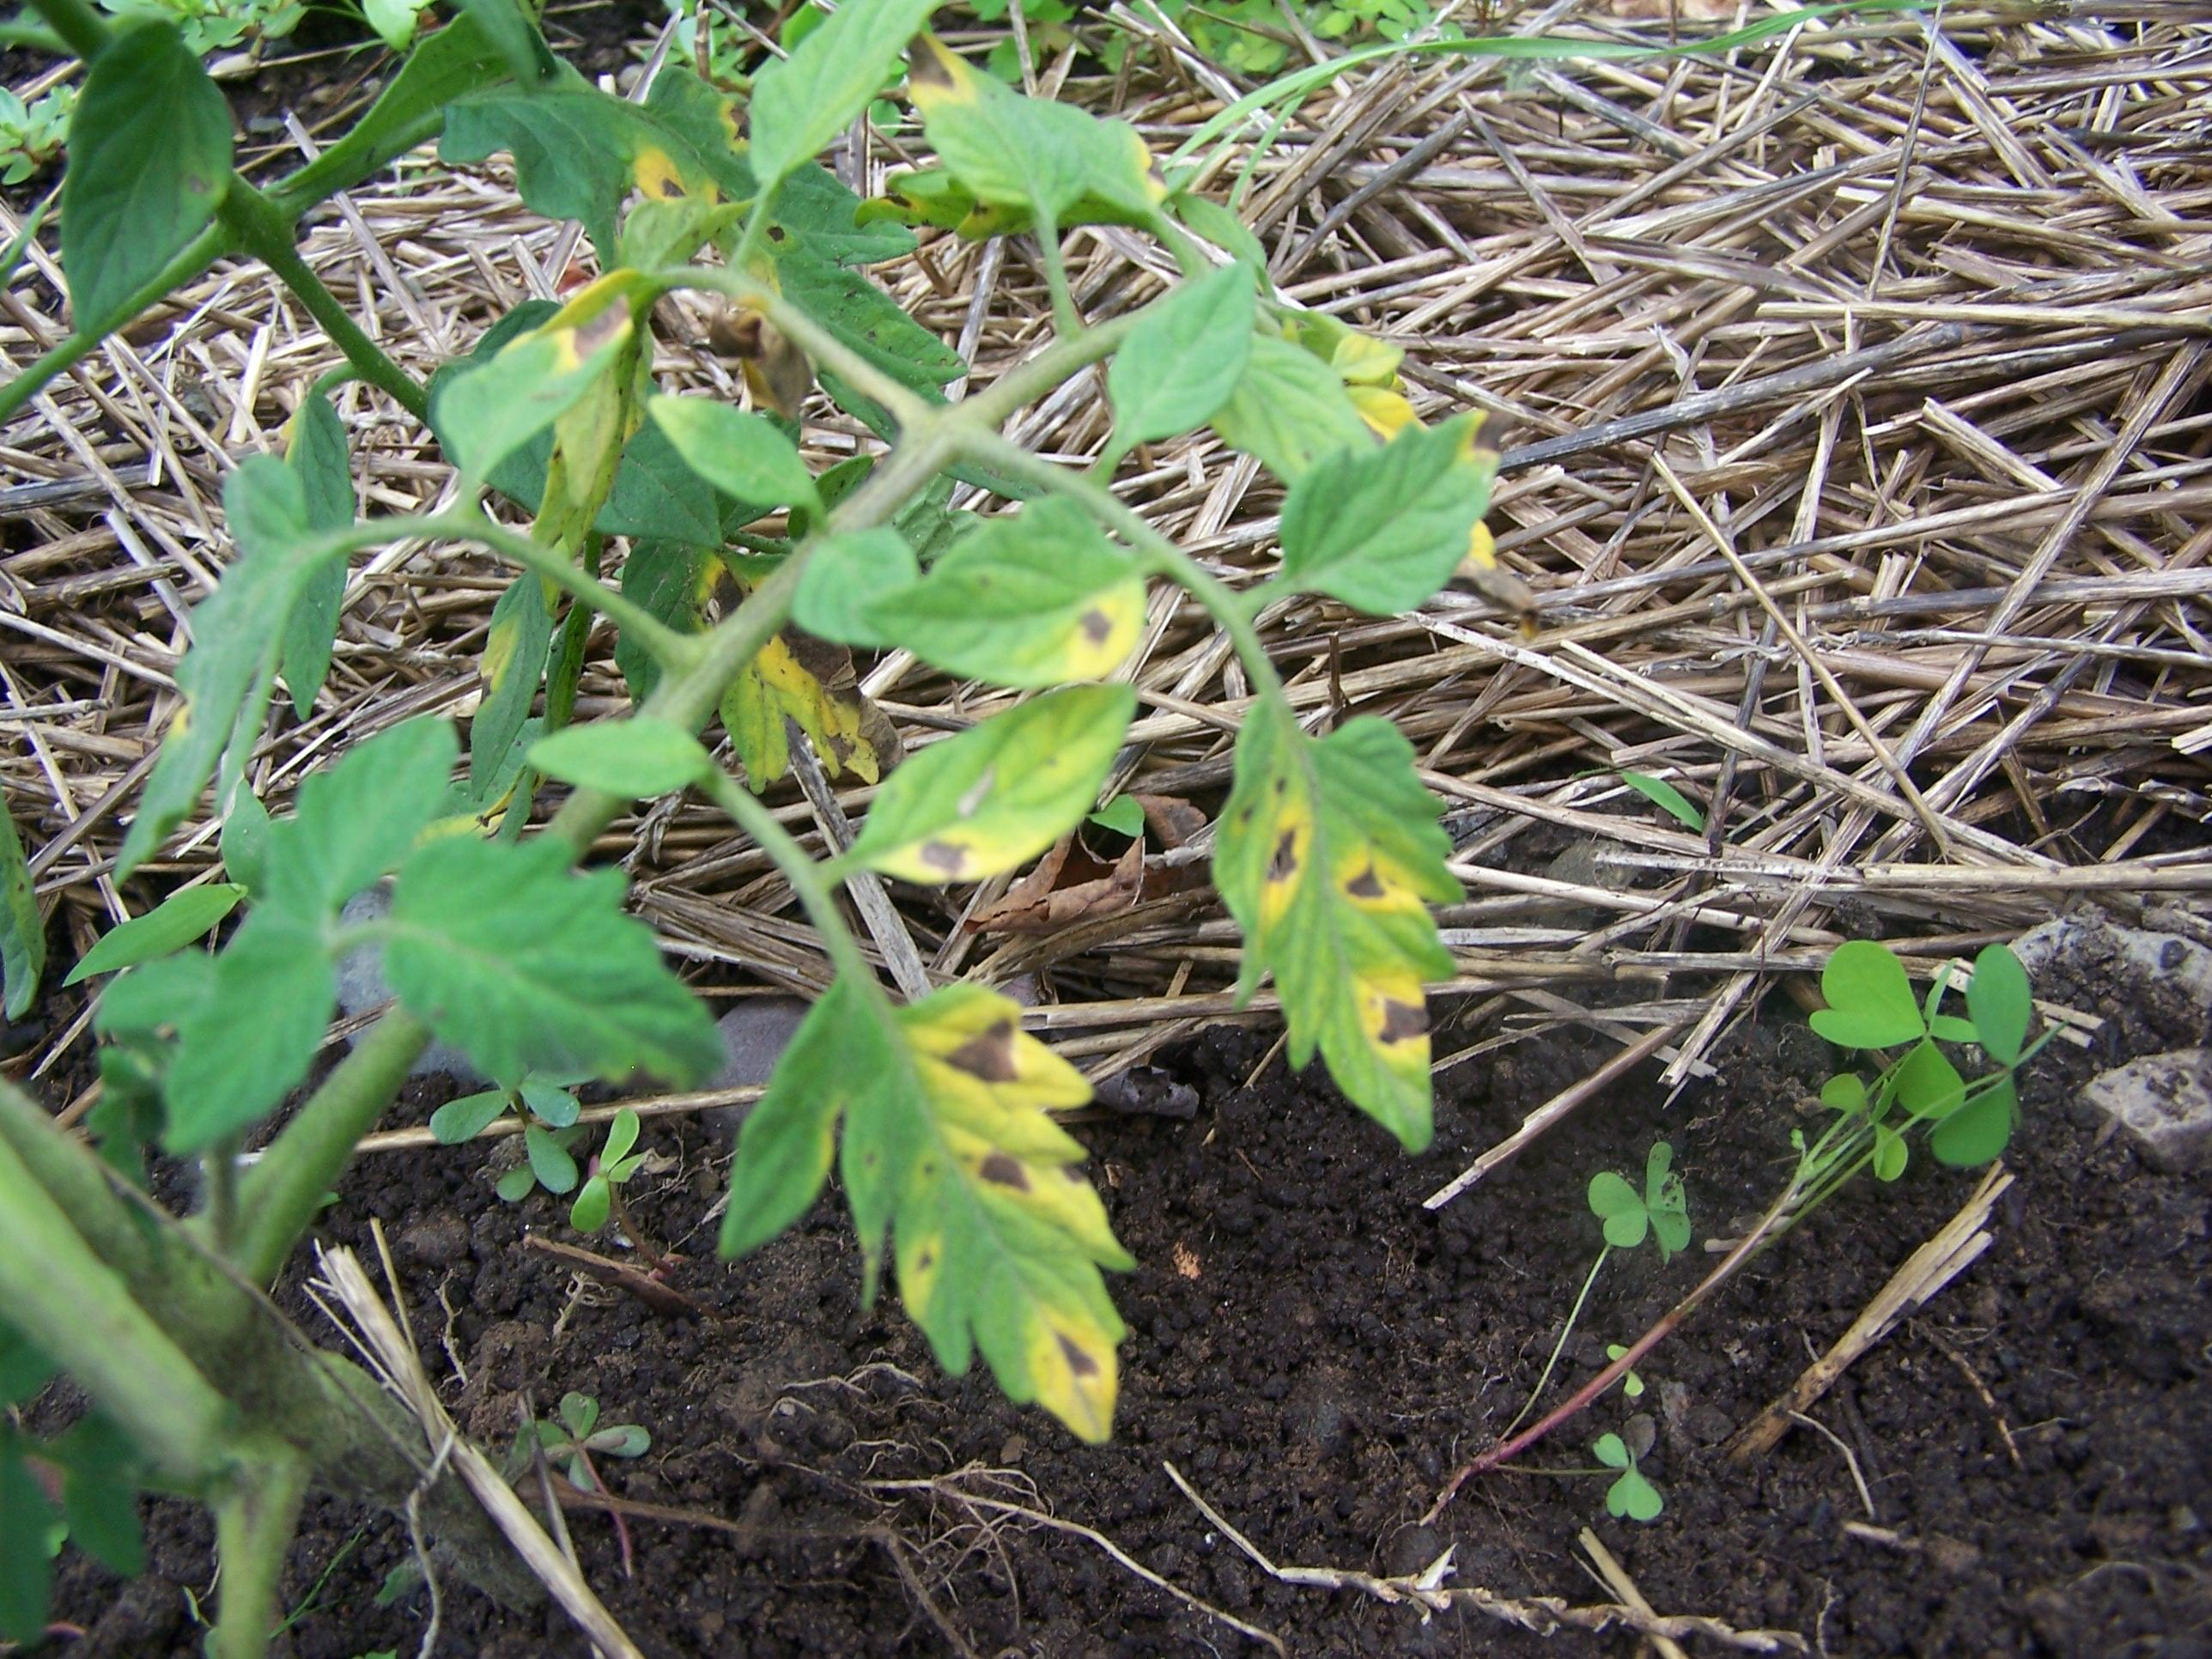Tomato Early blight leaf: (761, 948, 1162, 1424), (1193, 652, 1474, 1148), (824, 678, 1141, 904), (850, 498, 1205, 681)
